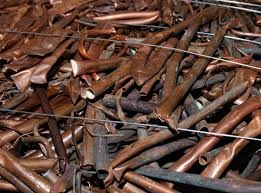metal: (146, 86, 261, 178), (147, 17, 240, 118), (129, 4, 235, 87), (19, 78, 84, 177), (75, 98, 127, 188), (25, 29, 75, 86), (80, 60, 138, 102), (91, 5, 159, 37), (67, 49, 136, 78)
